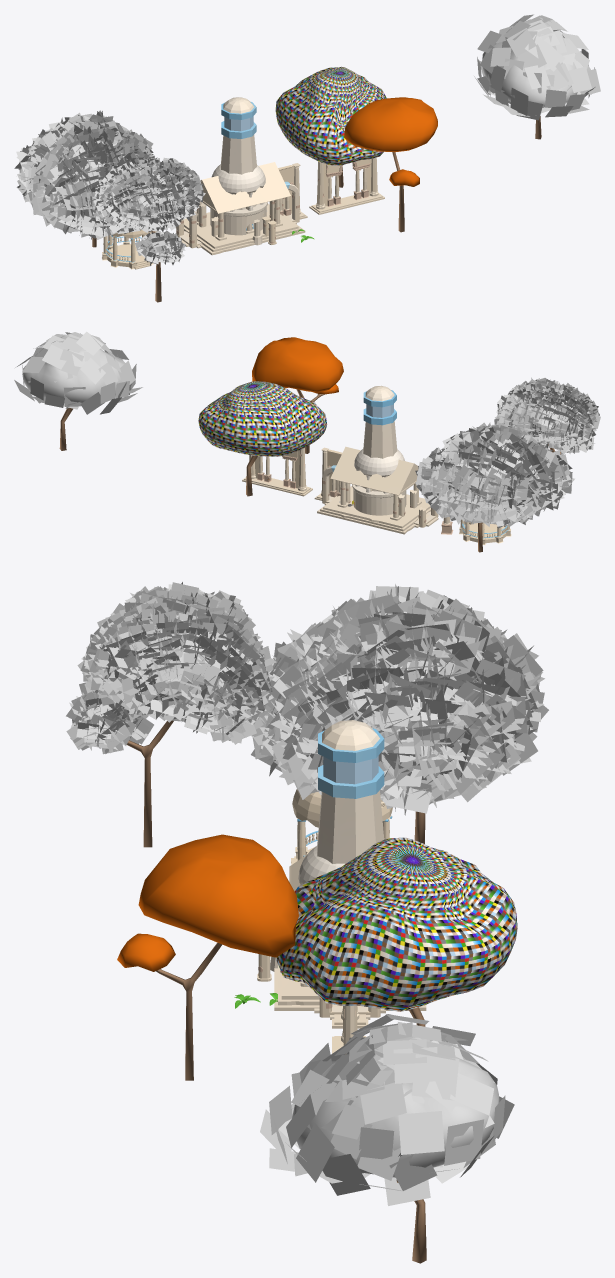
Rendered from Monuments.fbx.
3 renders of one model, top to bottom at view 1: azimuth 30°, elevation 25°; view 2: azimuth 150°, elevation 25°; view 3: azimuth 270°, elevation 25°, orthographic. The views are drawn at different scales.
Parts seen in each view (by area): view 1: Tree_01_LOD0, Tree_01_LOD1_Autumn.001, Tree_02_LOD0, Tree_01_LOD1_Autumn, Tree_02_LOD1_Autumn, Temple, Tower, Arc_03_broken, Mainhub_Home, Music Dome, Arc_02_broken, Arc_03 (+1 smaller); view 2: Tree_01_LOD0, Tree_01_LOD1_Autumn, Tree_01_LOD1_Autumn.001, Tree_02_LOD0, Temple, Tree_02_LOD1_Autumn, Tower, Mainhub_Home, Arc_03_broken, Music Dome, Arc_02_broken, Arc_03 (+1 smaller); view 3: Tree_01_LOD0, Tree_01_LOD1_Autumn.001, Tree_01_LOD1_Autumn, Tree_02_LOD0, Tree_02_LOD1_Autumn, Tower, Temple, Music Dome.
Boxes of the visible parts, bbox=[...] form: Tree_01_LOD0: bbox=[14, 110, 157, 247]; Tree_01_LOD1_Autumn.001: bbox=[474, 14, 600, 139]; Tree_02_LOD0: bbox=[92, 157, 205, 302]; Tree_01_LOD1_Autumn: bbox=[275, 66, 386, 187]; Tree_02_LOD1_Autumn: bbox=[344, 97, 437, 232]; Temple: bbox=[176, 162, 305, 255]; Tower: bbox=[221, 97, 256, 230]; Arc_03_broken: bbox=[309, 157, 384, 214]; Mainhub_Home: bbox=[210, 164, 267, 235]; Music Dome: bbox=[102, 229, 155, 269]; Arc_02_broken: bbox=[176, 203, 218, 248]; Arc_03: bbox=[278, 163, 307, 219]; Tree_01_LOD0: bbox=[415, 422, 574, 552]; Tree_01_LOD1_Autumn: bbox=[198, 381, 327, 496]; Tree_01_LOD1_Autumn.001: bbox=[14, 331, 142, 450]; Tree_02_LOD0: bbox=[494, 377, 600, 454]; Temple: bbox=[317, 446, 430, 534]; Tree_02_LOD1_Autumn: bbox=[252, 337, 343, 453]; Tower: bbox=[361, 385, 397, 491]; Mainhub_Home: bbox=[352, 449, 406, 515]; Arc_03_broken: bbox=[242, 448, 312, 496]; Music Dome: bbox=[459, 519, 511, 545]; Arc_02_broken: bbox=[398, 490, 438, 527]; Arc_03: bbox=[314, 447, 342, 500]; Tree_01_LOD0: bbox=[251, 584, 548, 843]; Tree_01_LOD1_Autumn.001: bbox=[260, 1014, 514, 1263]; Tree_01_LOD1_Autumn: bbox=[275, 837, 517, 1026]; Tree_02_LOD0: bbox=[66, 582, 276, 847]; Tree_02_LOD1_Autumn: bbox=[117, 834, 298, 1080]; Tower: bbox=[317, 720, 384, 863]; Temple: bbox=[274, 854, 426, 1010]; Music Dome: bbox=[291, 789, 392, 864].
Size of what is drawn, in the model's own units: 12015 by 2895 by 4774.
